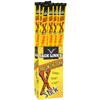grozi_100: (34, 1, 66, 100)
